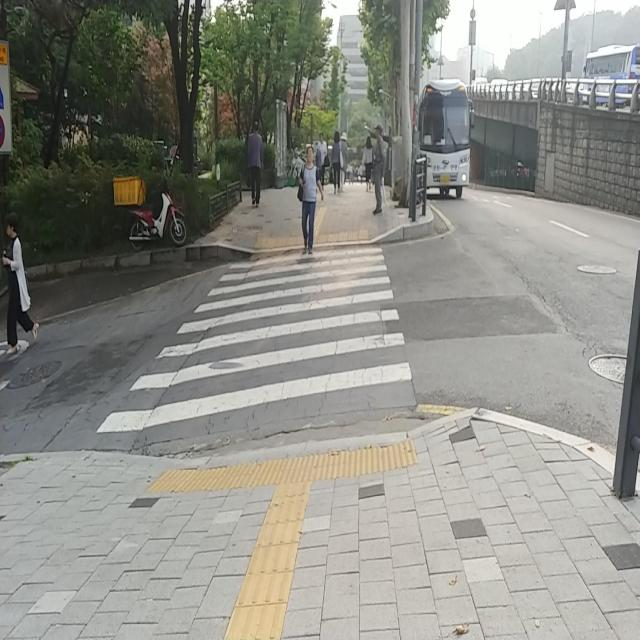횡단보도: (94, 246, 413, 434)
